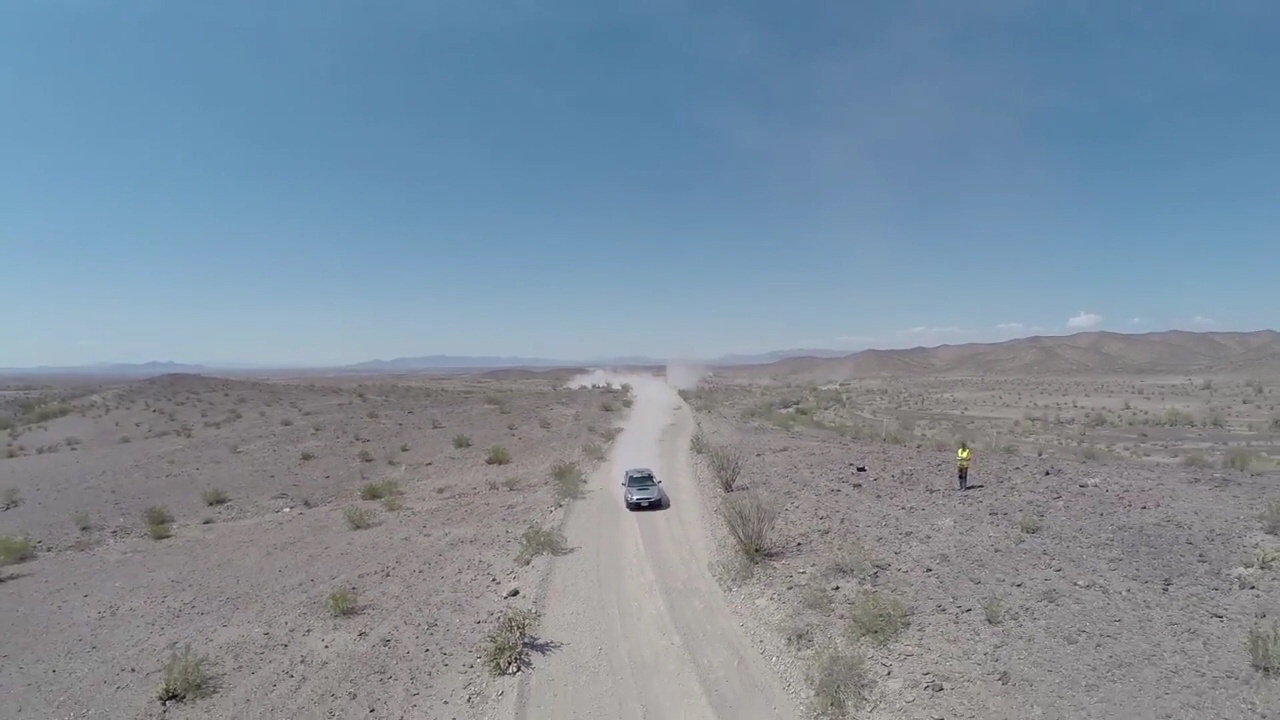araba: (625, 467, 663, 510)
insan: (955, 443, 973, 489)
